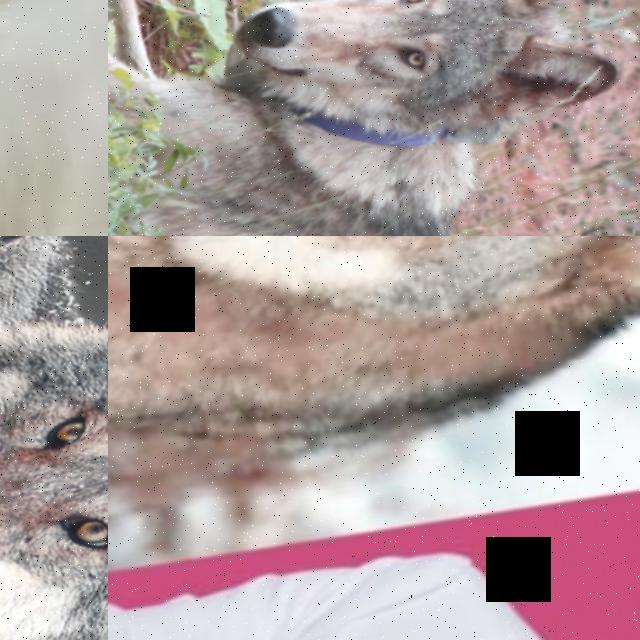dog: (0, 0, 108, 236)
wolf: (108, 236, 640, 560), (108, 0, 640, 236), (0, 279, 108, 640), (0, 236, 108, 530)
